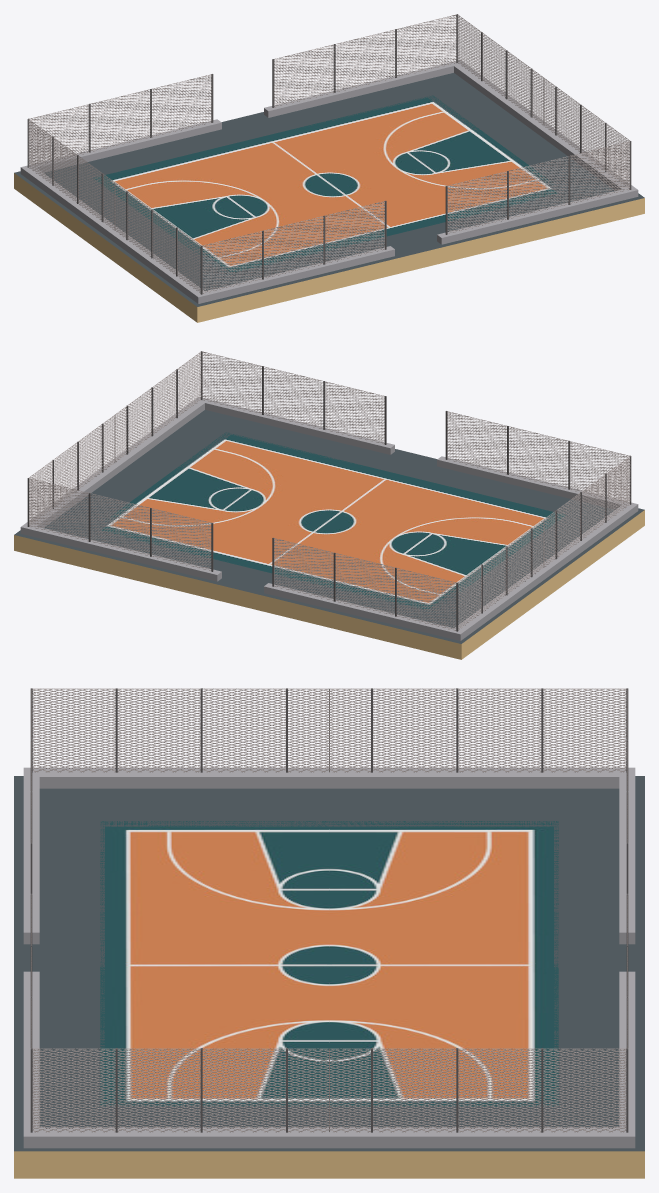
File: fullcourt.fbx
3 views of the same model, one above another, from view 1: azimuth 30°, elevation 25°; view 2: azimuth 150°, elevation 25°; view 3: azimuth 270°, elevation 25° (orthographic). The views are drawn at different scales.
Visible parts, largest first — view 1: Base, Court; view 2: Base, Court; view 3: Base, Court.
Boxes of the visible parts, bbox=[...] form: Base: bbox=[14, 14, 644, 322]; Court: bbox=[93, 95, 557, 274]; Base: bbox=[14, 351, 644, 659]; Court: bbox=[101, 432, 565, 611]; Base: bbox=[14, 688, 644, 1178]; Court: bbox=[100, 821, 558, 1106].
Size of the model in its own units: 579 by 87.86 by 411.
